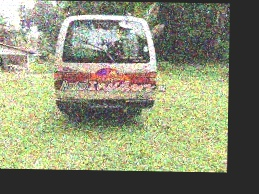van: (51, 12, 163, 120)
